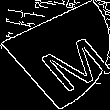M_NW: (9, 21, 101, 89)
